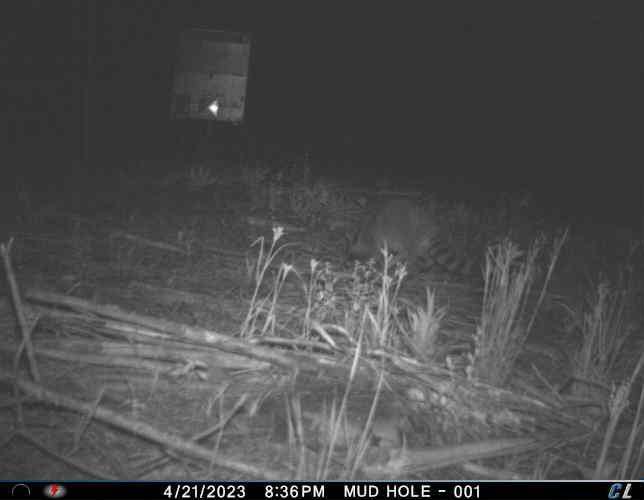Raccoon: (340, 196, 481, 282)
